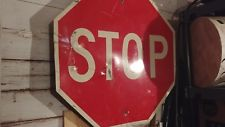stopsign: (49, 1, 179, 126)
